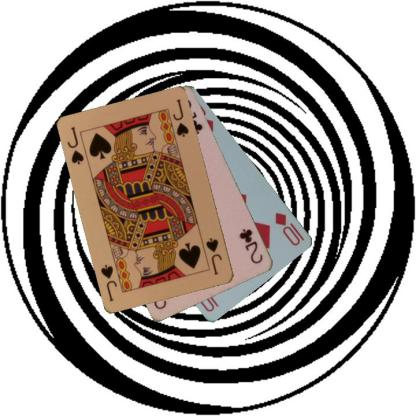10d: (273, 210, 306, 247)
2c: (237, 226, 265, 265)
Js: (64, 124, 86, 166), (204, 235, 224, 276)
